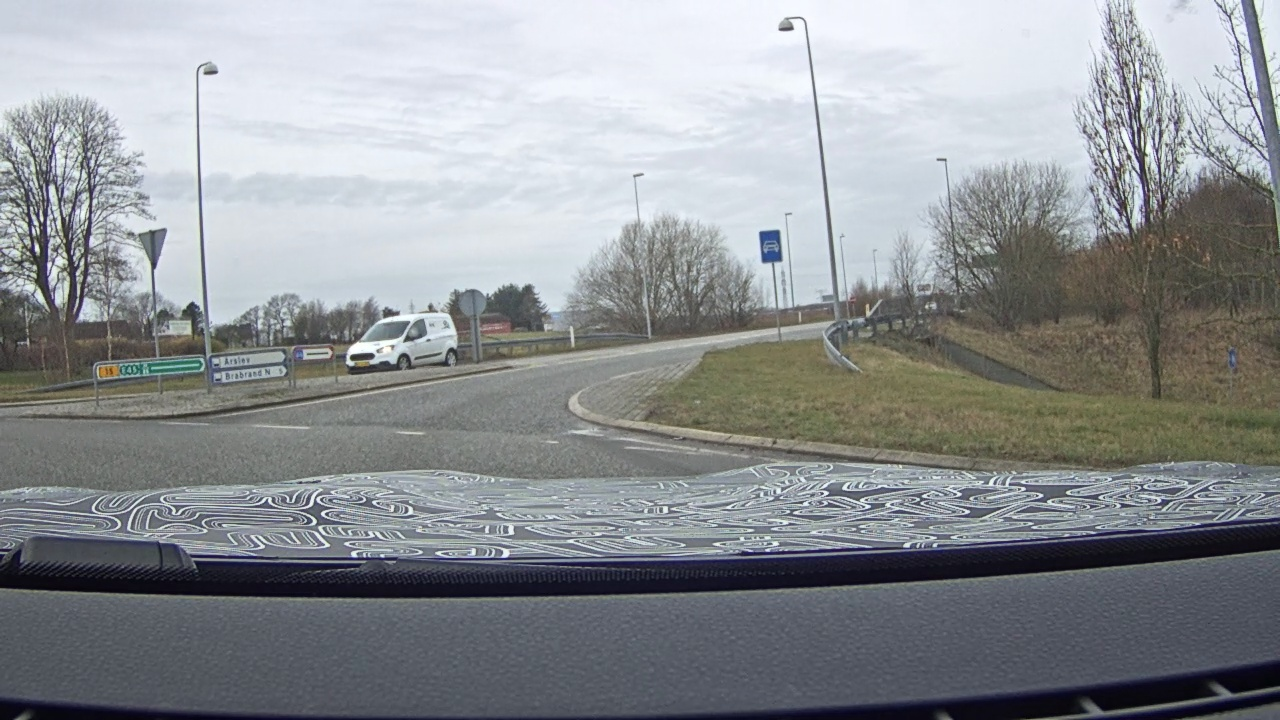Expressway_Begin: (758, 229, 783, 264)
